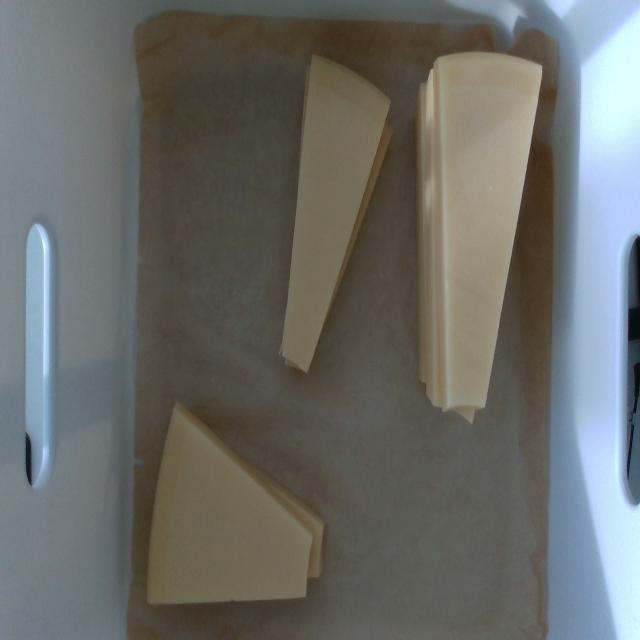Cheese: (437, 52, 543, 409), (283, 56, 389, 370), (148, 410, 312, 603)
